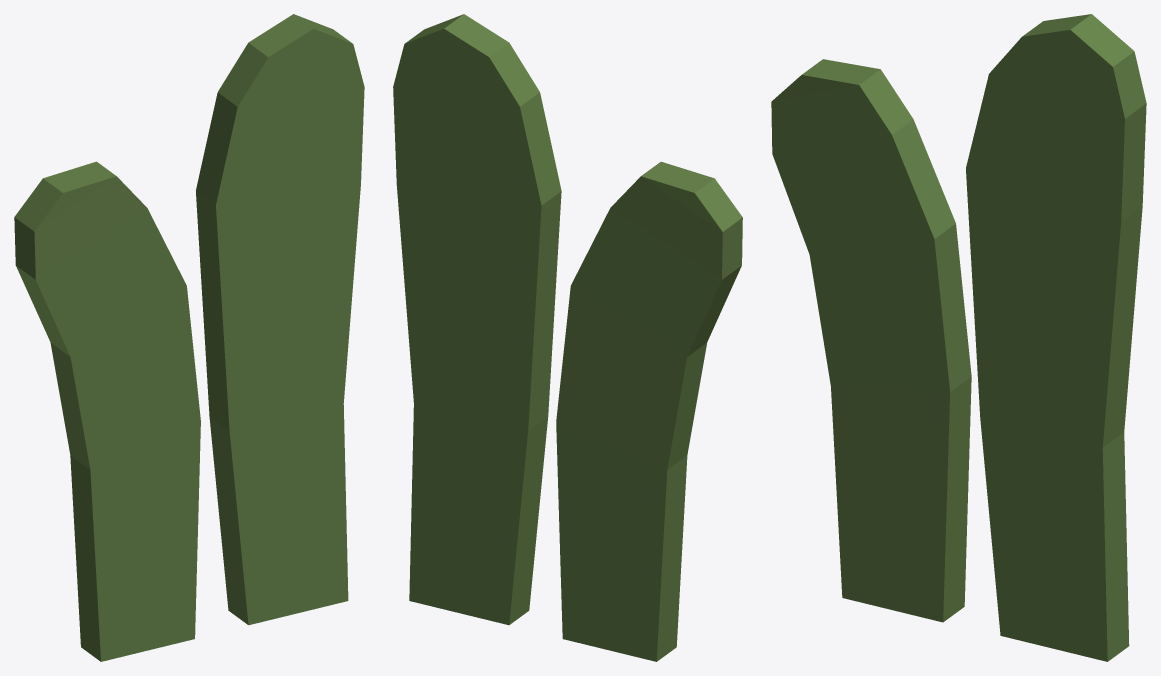
Rendered from Algae2.fbx.
3 views of the same model, side by side, from view 1: azimuth 30°, elevation 25°; view 2: azimuth 150°, elevation 25°; view 3: azimuth 330°, elevation 25° (orthographic). The views are drawn at different scales.
Parts seen in each view (by area): view 1: Algae2; view 2: Algae2; view 3: Algae2.
Boxes of the visible parts, box(x1,y1,x2,y2) form: Algae2: box(14, 14, 364, 661); Algae2: box(393, 14, 742, 661); Algae2: box(771, 14, 1146, 661).
Bounding box in the file's own units: 0.3001 × 0.5054 × 0.0321.
